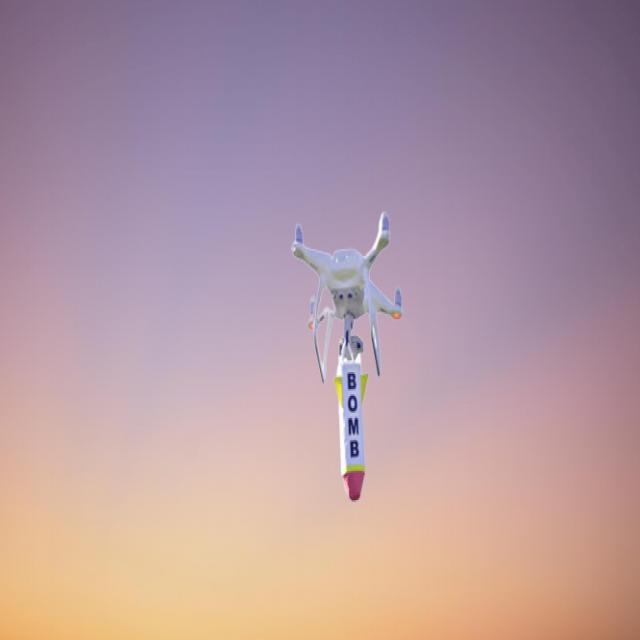drones: (280, 199, 415, 399)
